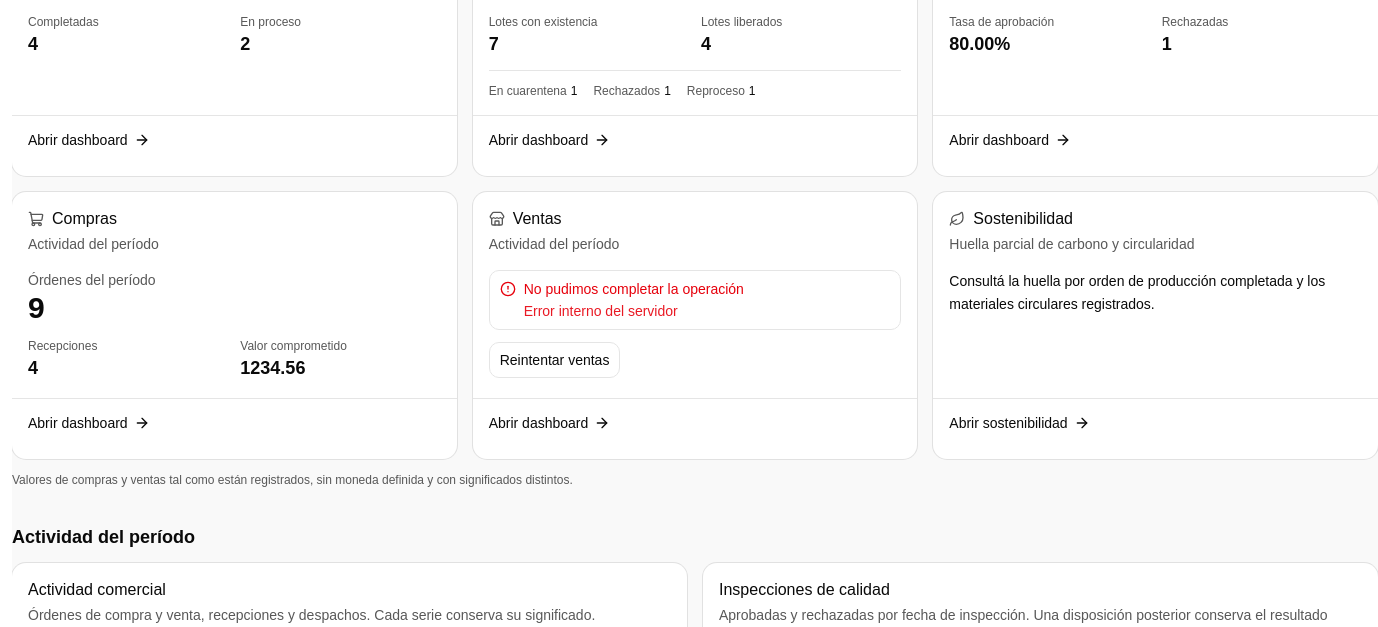
D6 Home composition › isolates a Sales failure and retries only Sales
(page scrolled)
Expected: the text "Error interno del servidor" is shown, [524,303,678,319]
Expected: the text "4" below "Lotes liberados" is shown, [701,34,711,54]
Click the button "Reintentar ventas" at (555, 360), box [489,342,620,378]
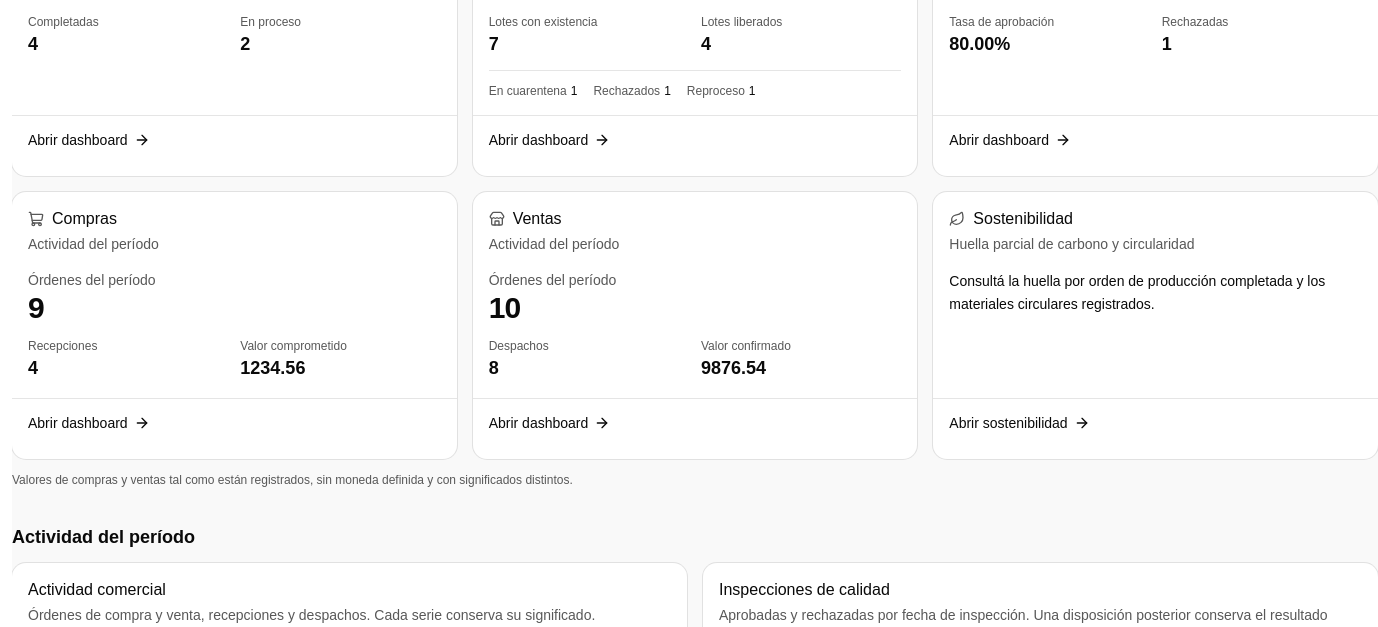
Result: the text "8" next to "9876.54" is shown at [489,358,499,378]
